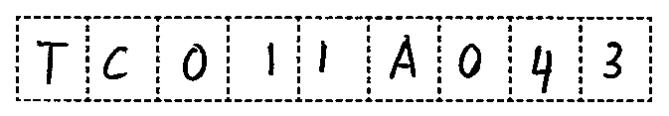0: (174, 39, 216, 84), (452, 38, 488, 82)
1: (253, 39, 288, 80), (307, 34, 339, 75)
3: (596, 37, 632, 84)
4: (524, 41, 562, 95)
C: (380, 29, 426, 84), (96, 42, 136, 82)
T: (28, 32, 74, 90)
